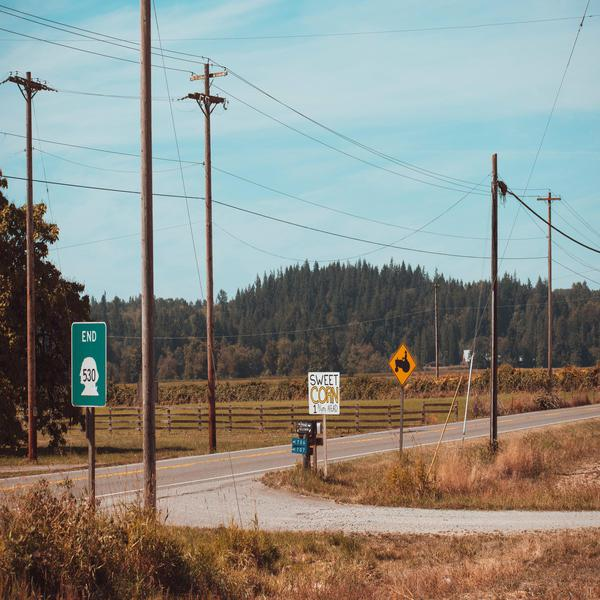utility_pole: (168, 42, 247, 133), (467, 135, 521, 220), (1, 60, 66, 126), (529, 181, 567, 225)
